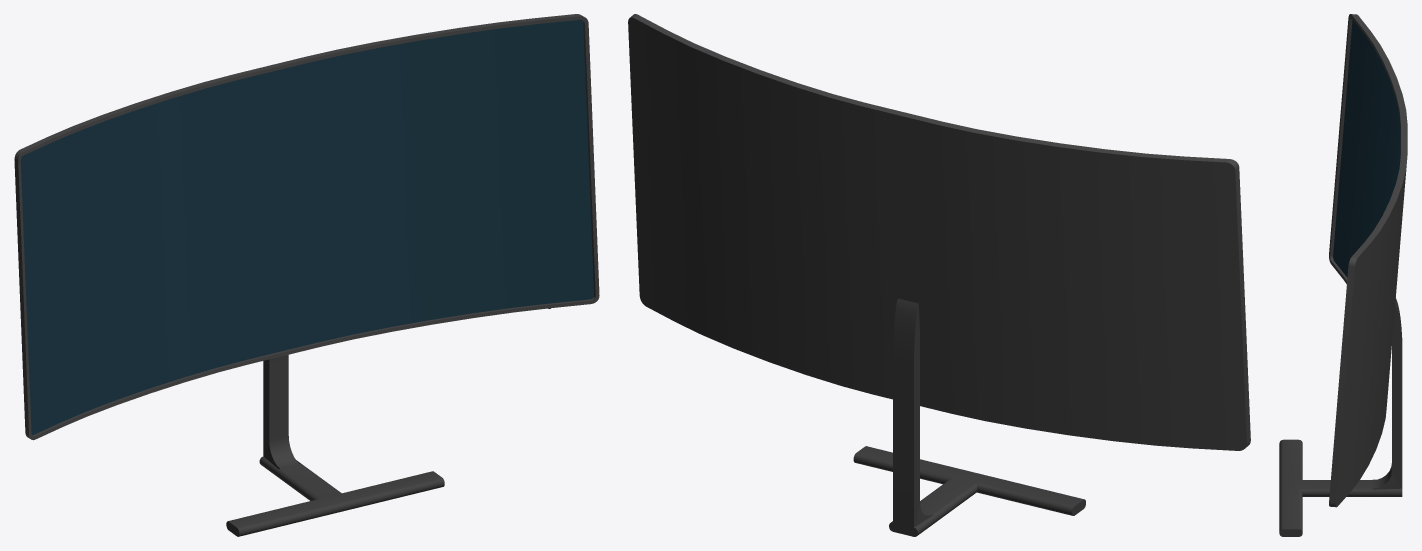
The model's file is Monitor.fbx.
The picture shows the model from 3 angles, left to right: view 1: azimuth 30°, elevation 25°; view 2: azimuth 150°, elevation 25°; view 3: azimuth 270°, elevation 25°; orthographic projection. The views are drawn at different scales.
Parts seen in each view (by area): view 1: Desktop; view 2: Desktop; view 3: Desktop.
Part boxes in pixels (box(x1,y1,x2,y2)): Desktop: box(14, 14, 599, 536); Desktop: box(628, 14, 1250, 536); Desktop: box(1279, 14, 1407, 536).
Size of the model in its own units: 60.92 by 40.78 by 13.27.
